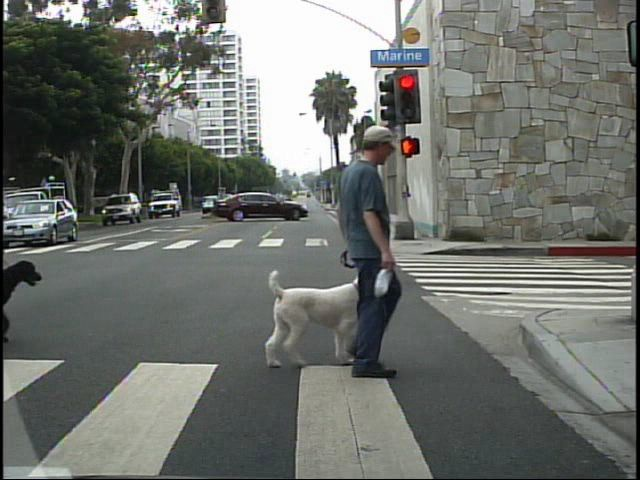person: (309, 112, 419, 380)
